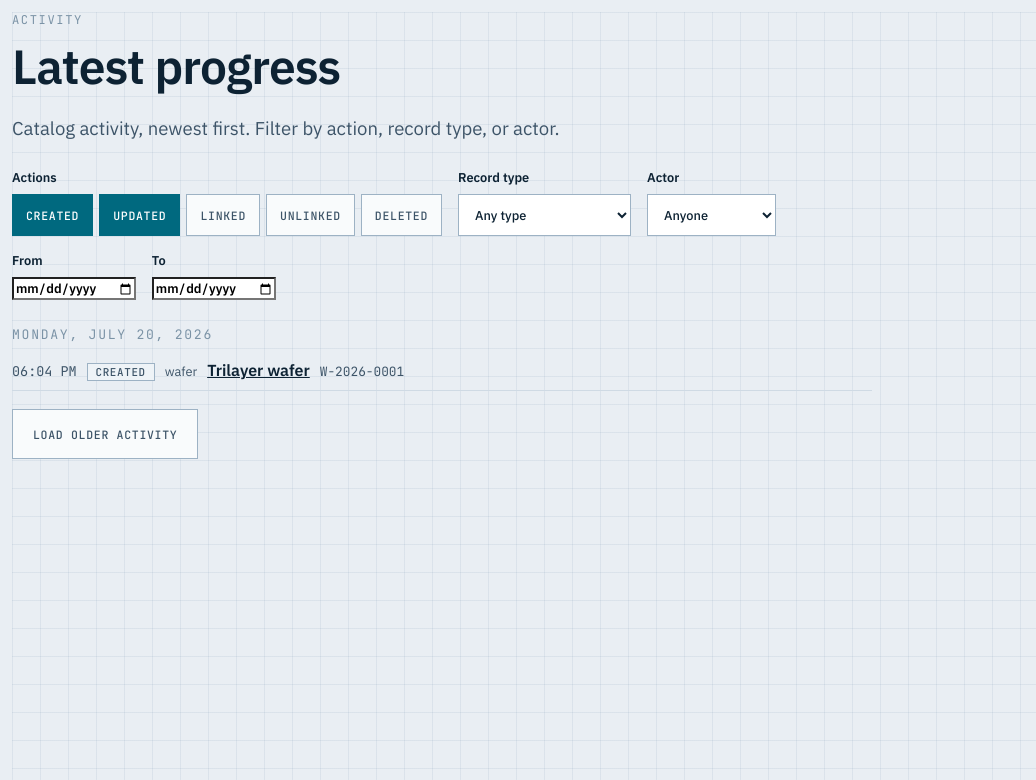
Test case: ActivityPage › loads older pages through the cursor
What coordinates should you click on to do the following:
click the button "Load older activity"
I would click on:
 (105, 434)
Its box is [12,409,198,459].
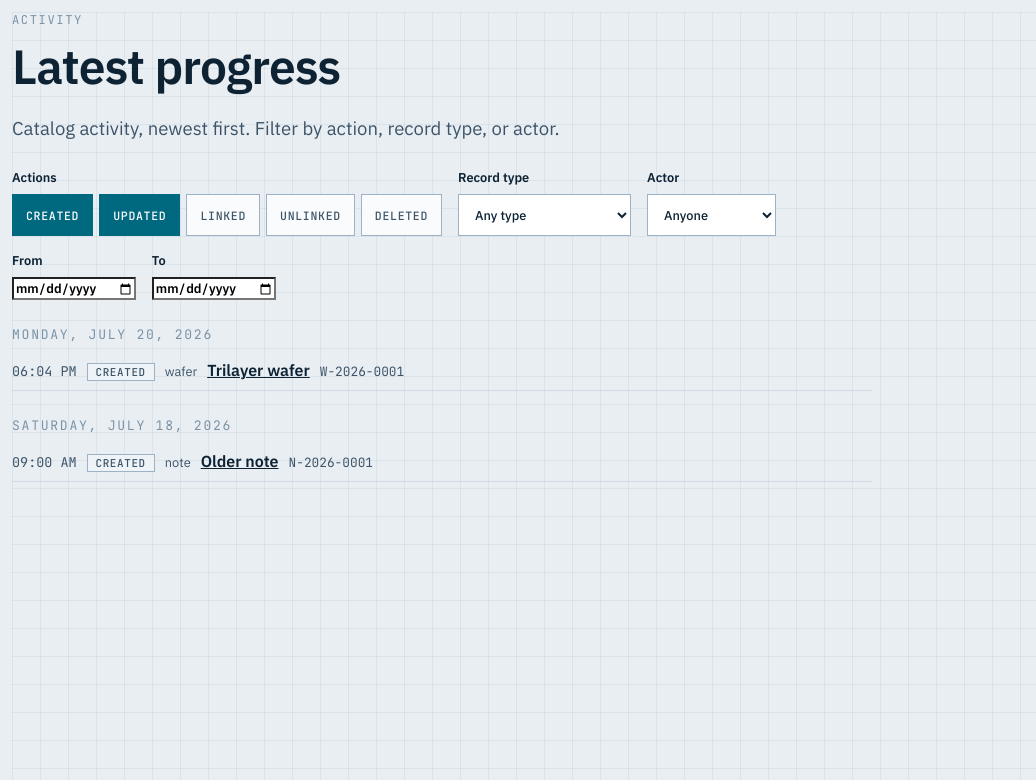
Now the link "Older note" is shown, box [201,451,279,471]
Now the button "older activity" is gone
